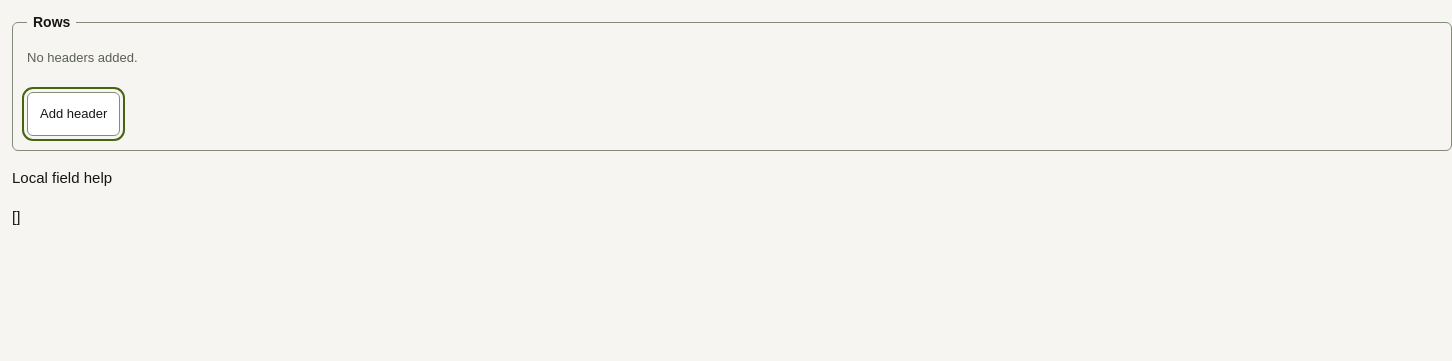
Test: API structured light DOM › entries keyboard add/edit/remove and focus
Step 1. Press Enter
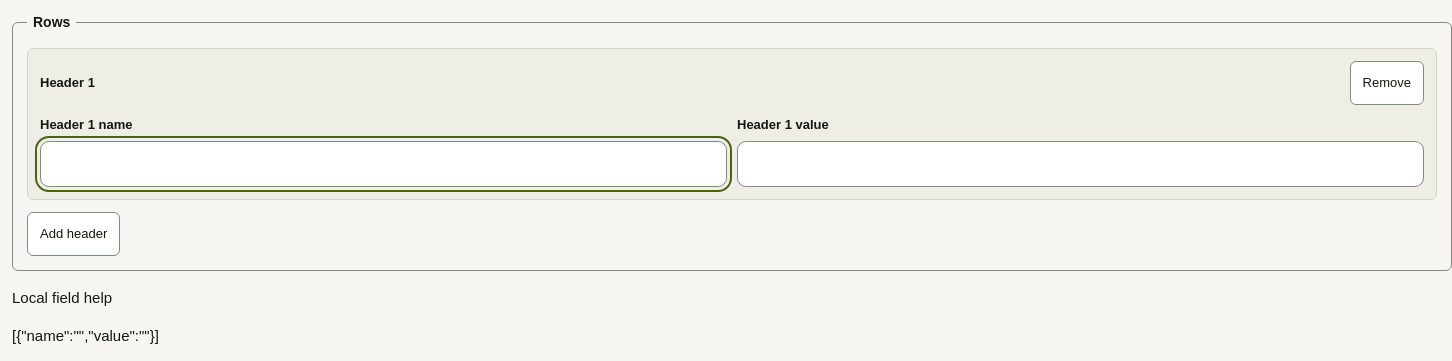
Step 2. Type "✓ 世界 🛰️" into the field labelled "Header 1 name" → coordinates (384, 164), box [40, 141, 727, 187]
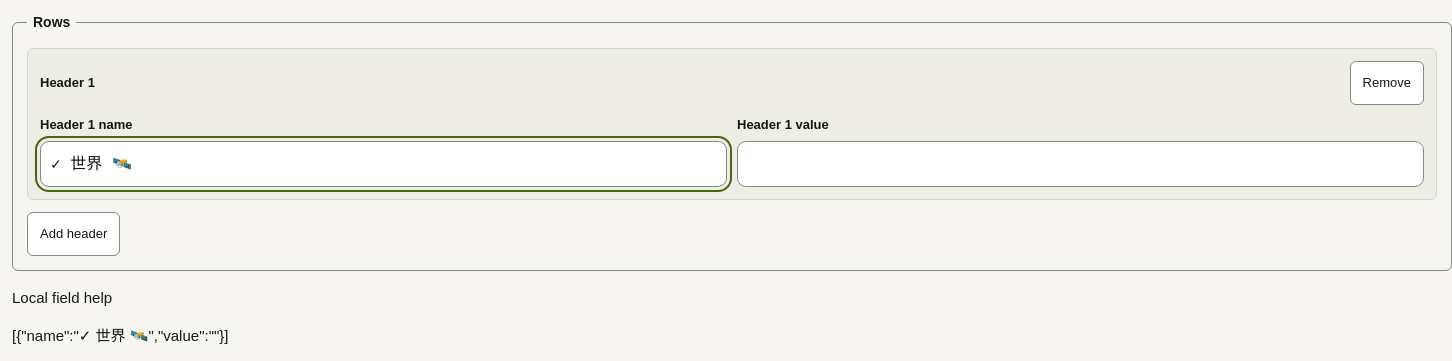
Step 3. Type "✓ 世界 🛰️" into the field labelled "Header 1 value" → coordinates (1080, 164), box [737, 141, 1424, 187]
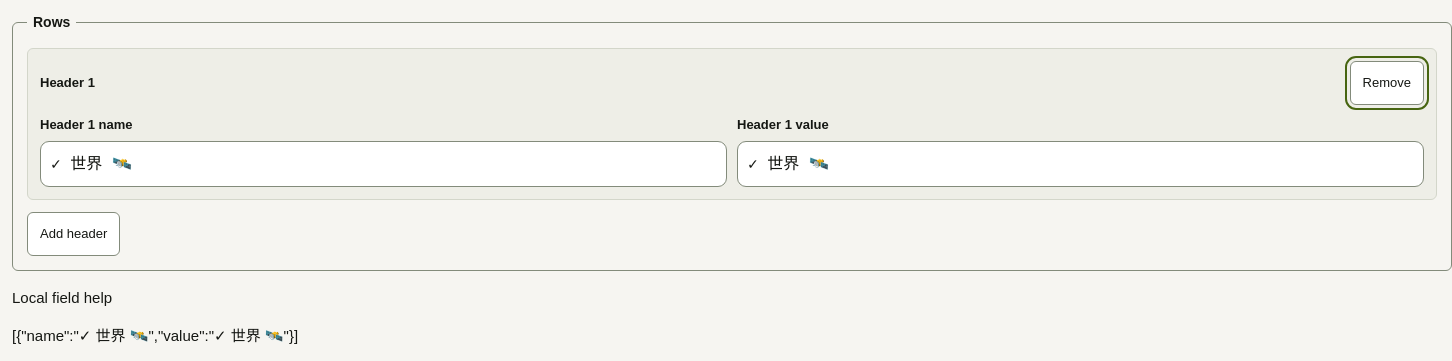
Now the text named "Current value" shows "✓ 世界 🛰️", box [12, 327, 298, 344]
Step 4. Press Enter
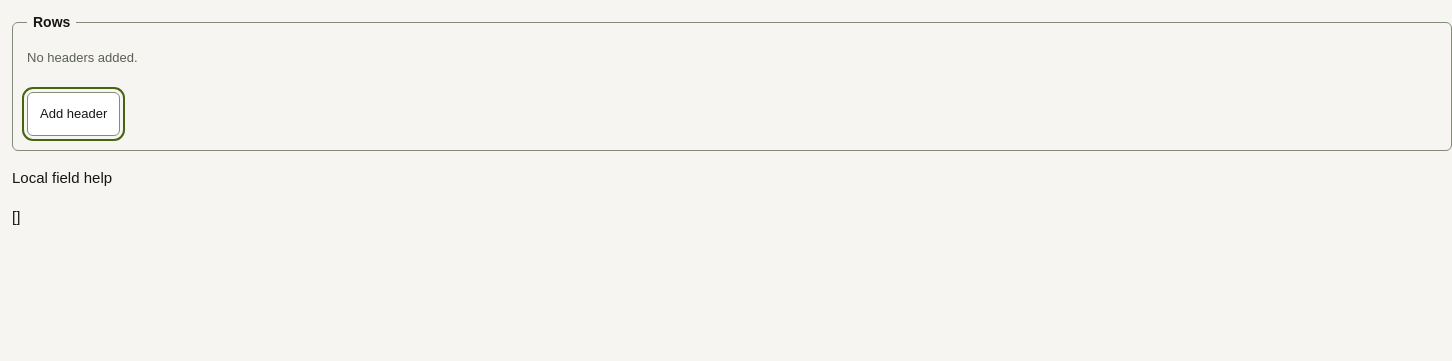
Now the text named "Current value" reads "[]", box [12, 208, 20, 225]
